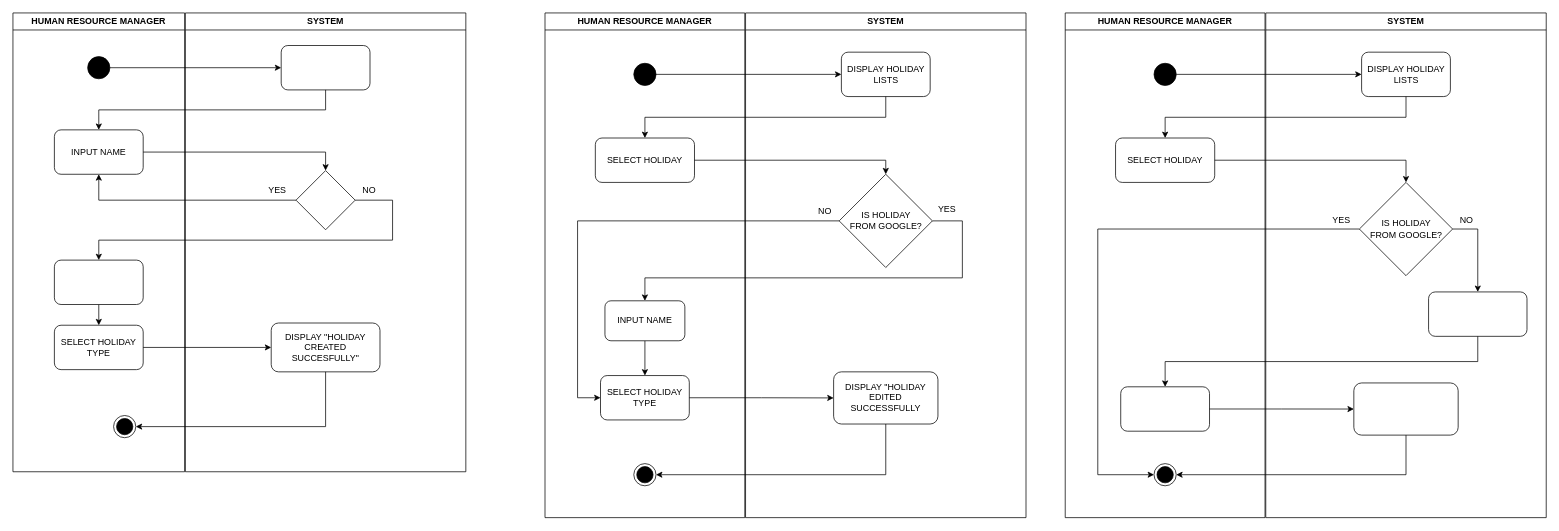
The diagram is 1559 pixels wide and 531 high, and some of its shapes have lost their labels. The shapes that lost their labels are listed below. From the top down, each one's box as (x1, y1, x2, y2) in pixels, then its label:
(280, 45, 370, 90): DISPLAY HOLIDAY FORM
(295, 170, 355, 230): IS NAME BLANK?
(54, 259, 143, 305): INPUT DATE
(1428, 291, 1527, 336): DISPLAY DELETE BUTTON
(1120, 386, 1210, 431): CLICK DELETE
(1353, 382, 1458, 435): DISPLAY "HOLIDAY DELETED SUCCESSFULLY
